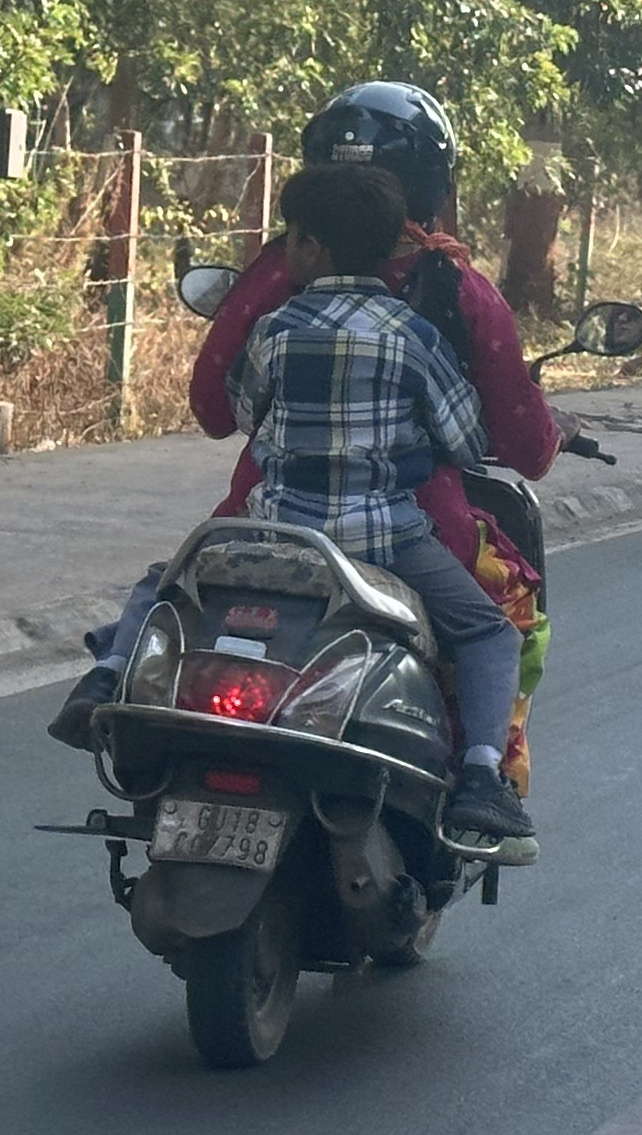BikeWithRider: (15, 63, 642, 1089)
Helmet: (281, 72, 476, 261)
NoHelmet: (263, 158, 418, 321)
